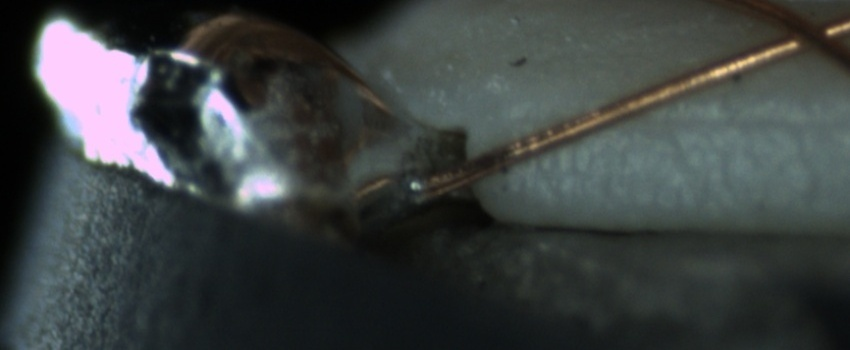CL: (756, 1, 847, 64)
DL: (570, 87, 844, 153)
